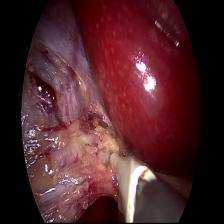Hook: (106, 149, 157, 223)
